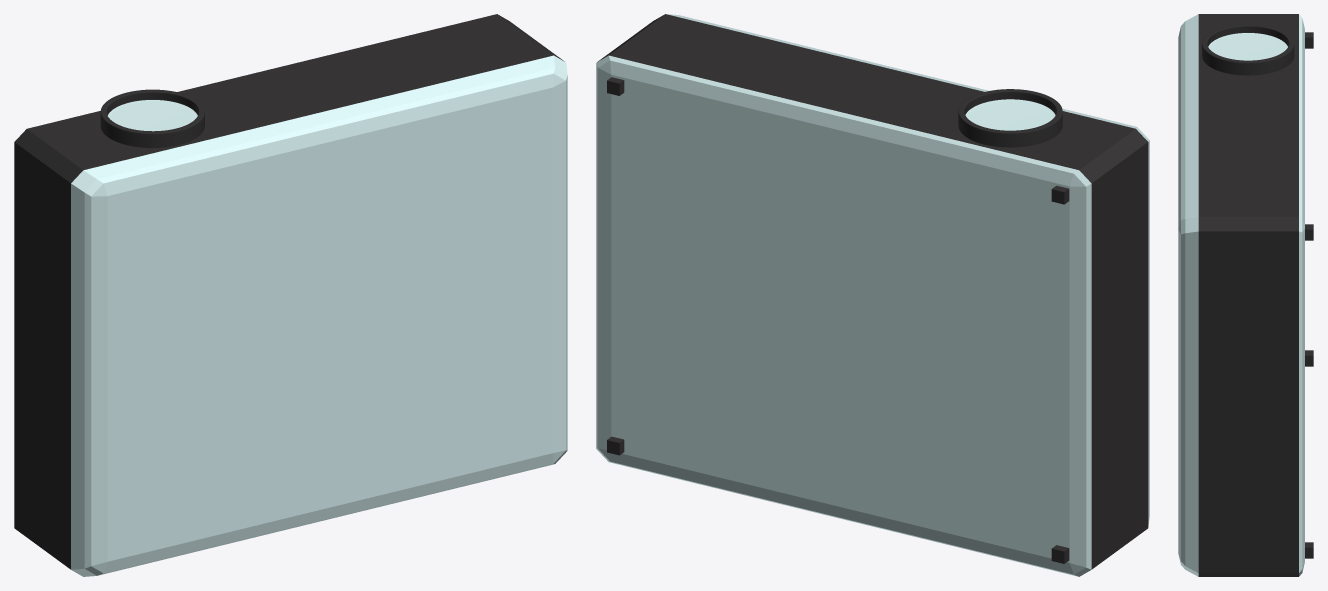
The model's file is Projector.fbx.
3 views of the same model, side by side, from view 1: azimuth 30°, elevation 25°; view 2: azimuth 150°, elevation 25°; view 3: azimuth 270°, elevation 25° (orthographic). The views are drawn at different scales.
Parts seen in each view (by area): view 1: PortableProjectorBase, PortableProjectorCircle; view 2: PortableProjectorBase, PortableProjectorCircle; view 3: PortableProjectorBase, PortableProjectorCircle.
Boxes of the visible parts, bbox=[...] form: PortableProjectorBase: bbox=[14, 14, 567, 576]; PortableProjectorCircle: bbox=[100, 89, 204, 147]; PortableProjectorBase: bbox=[596, 14, 1149, 576]; PortableProjectorCircle: bbox=[958, 89, 1062, 147]; PortableProjectorBase: bbox=[1178, 14, 1313, 576]; PortableProjectorCircle: bbox=[1202, 23, 1294, 75].
Bounding box in the file's own units: 26835 × 21811 × 7185.
